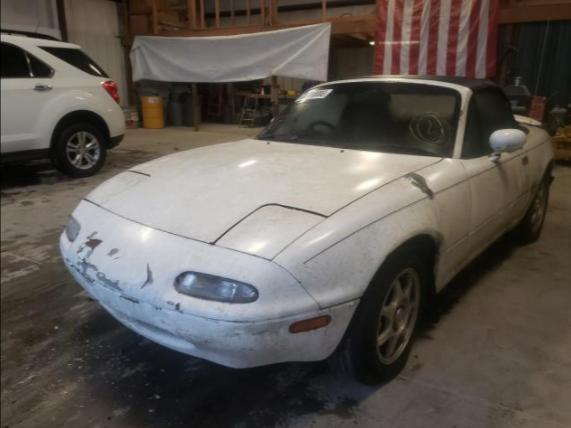Corrosion: (288, 299, 361, 336), (418, 232, 443, 276)
Paint chip: (404, 172, 433, 199), (70, 257, 98, 284), (81, 231, 104, 258), (95, 271, 123, 291), (141, 261, 153, 288), (119, 295, 140, 303), (457, 256, 468, 267), (106, 248, 119, 256), (251, 330, 268, 335), (457, 109, 463, 122), (503, 221, 511, 230), (225, 333, 241, 337), (76, 245, 83, 253), (174, 302, 180, 310), (112, 256, 120, 260), (297, 279, 302, 285), (166, 301, 173, 305), (160, 319, 166, 323), (102, 284, 108, 288), (109, 288, 115, 292), (248, 348, 255, 351), (208, 241, 213, 245), (65, 258, 70, 262), (491, 234, 495, 238), (204, 339, 208, 342), (242, 347, 246, 350), (77, 256, 81, 259), (487, 238, 490, 241), (180, 310, 183, 313), (156, 308, 158, 311), (159, 308, 161, 310)
Scratch: (494, 142, 524, 152)
